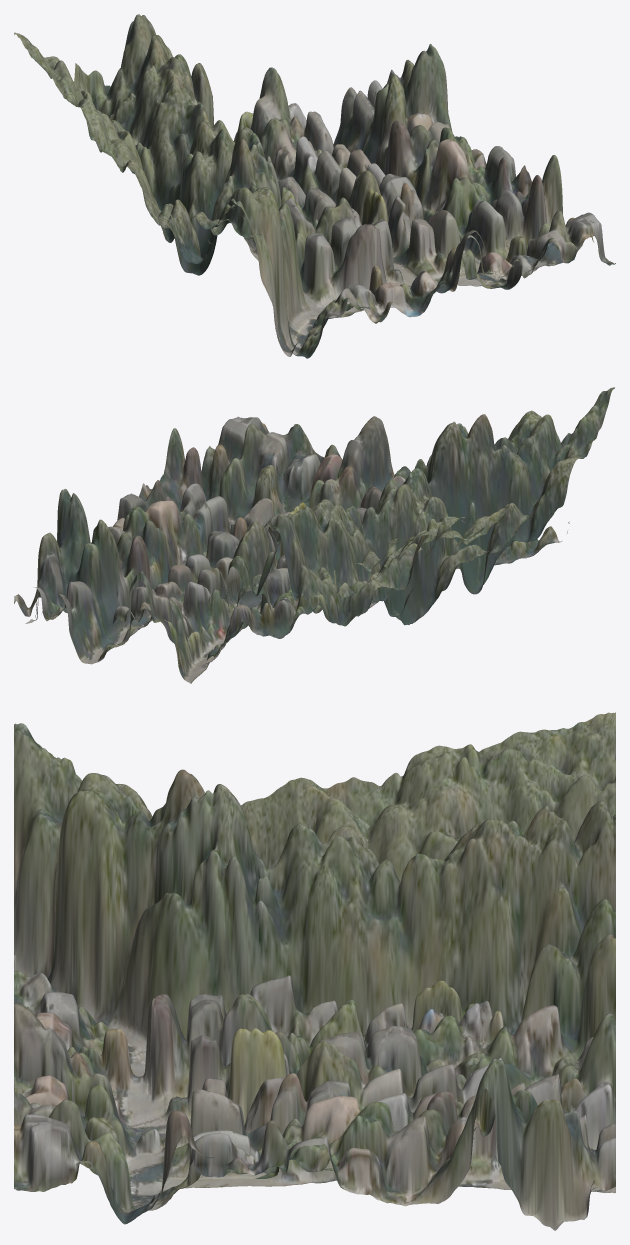
The model's file is dsm_1dc4ccd192_mesh.glb.
The picture shows the model from 3 angles, top to bottom: view 1: azimuth 30°, elevation 25°; view 2: azimuth 150°, elevation 25°; view 3: azimuth 270°, elevation 25°; orthographic projection. The views are drawn at different scales.
Visible parts, largest first — view 1: geometry_0; view 2: geometry_0; view 3: geometry_0.
Part boxes in pixels (box(x1,y1,x2,y2)): geometry_0: box(14, 14, 615, 358); geometry_0: box(14, 387, 614, 683); geometry_0: box(14, 712, 615, 1230).
Bounding box in the file's own units: 2 × 1 × 2.
